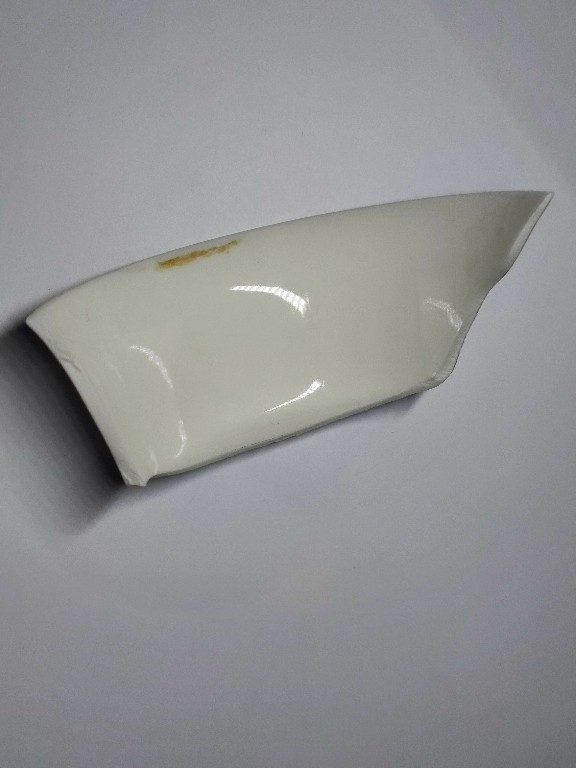ceramics: (18, 183, 557, 494)
